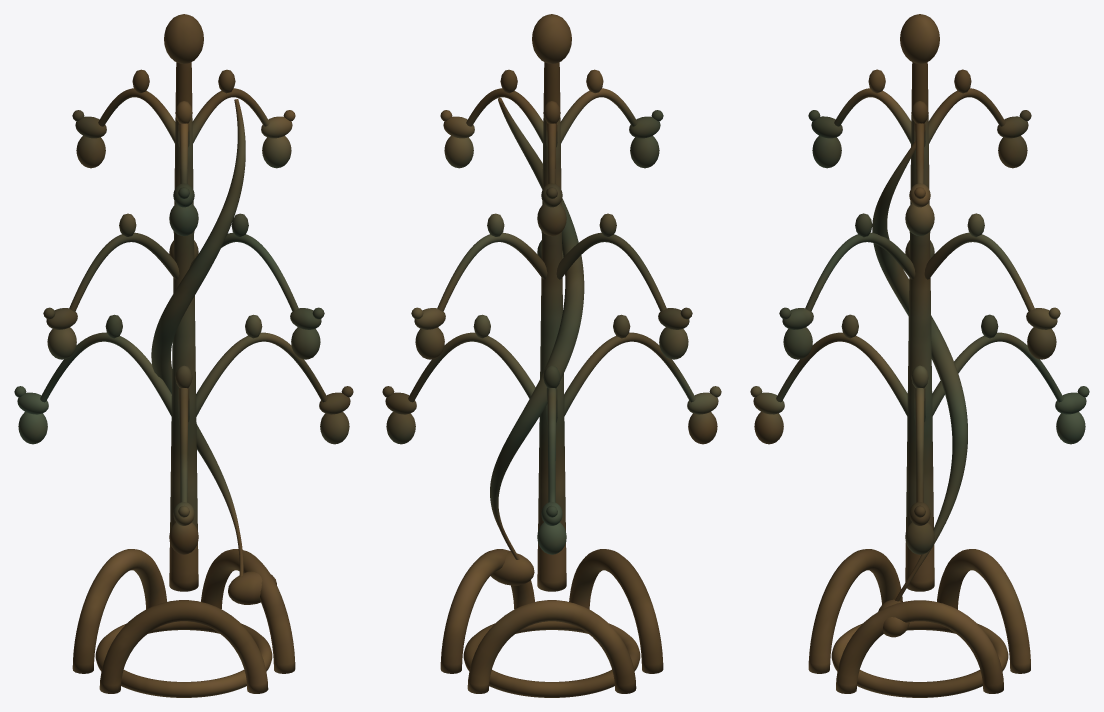
File: shenshu.glb
3 renders of one model, left to right at view 1: azimuth 30°, elevation 25°; view 2: azimuth 150°, elevation 25°; view 3: azimuth 270°, elevation 25°, orthographic.
Visible parts, largest first — view 1: model; view 2: model; view 3: model.
Boxes of the visible parts, left/top/right/bottom form: model: left=14, top=14, right=353, bottom=697; model: left=382, top=14, right=721, bottom=697; model: left=750, top=14, right=1089, bottom=697.
Bounding box in the file's own units: 0.4986 × 1 × 0.4746.
